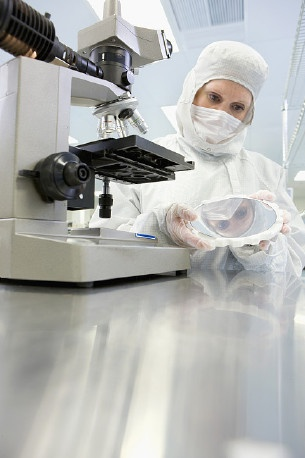Mask: (186, 75, 257, 145)
